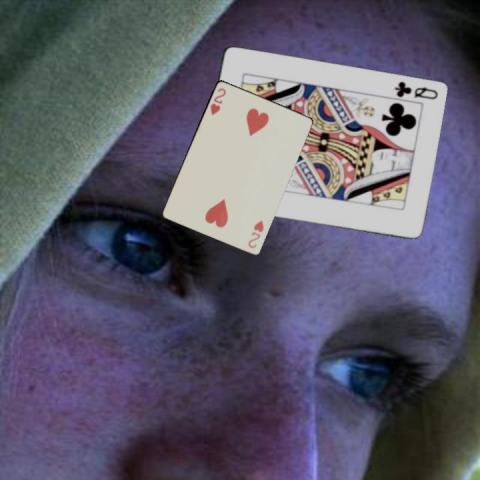2h: (244, 217, 264, 249), (208, 85, 228, 116)
Qc: (391, 79, 439, 101)
